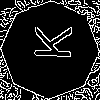K: (25, 25, 72, 60)
